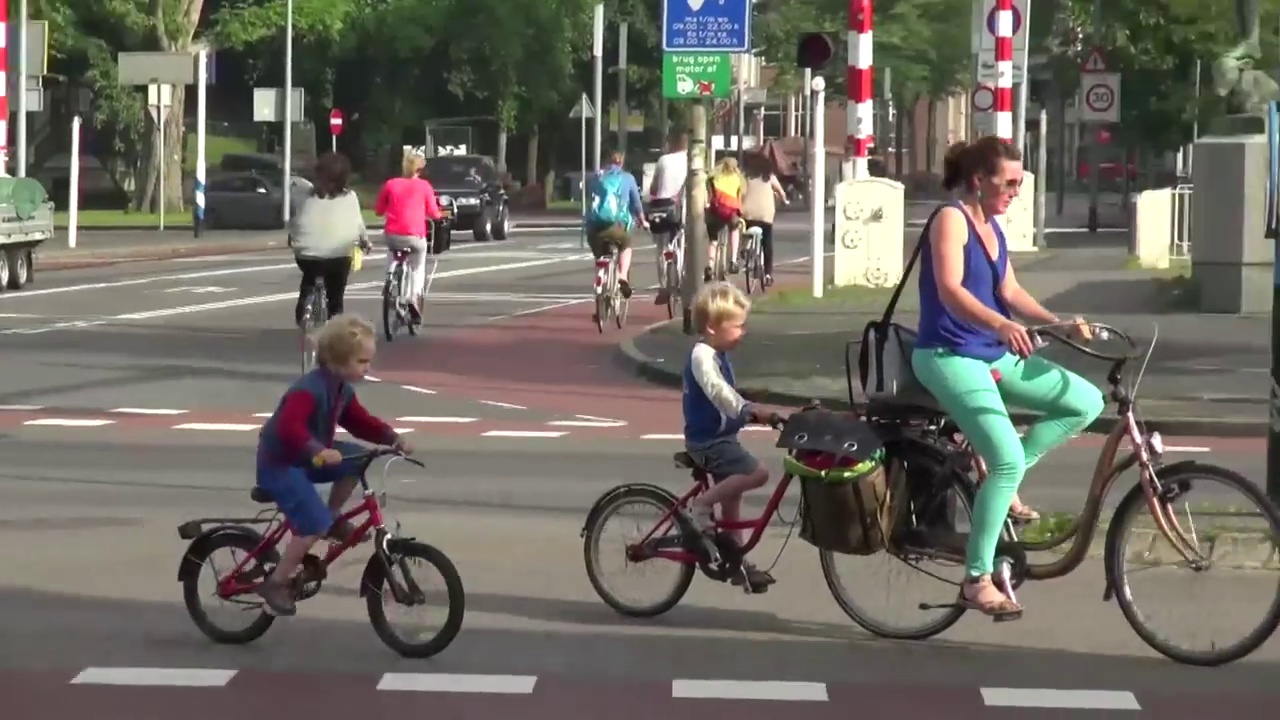cyclist_back: (271, 147, 362, 382), (367, 141, 443, 345), (571, 148, 637, 346), (643, 127, 688, 317), (696, 143, 748, 299), (745, 146, 793, 298)
cyclist_side: (868, 140, 1274, 668), (162, 316, 469, 658), (587, 285, 823, 662)
